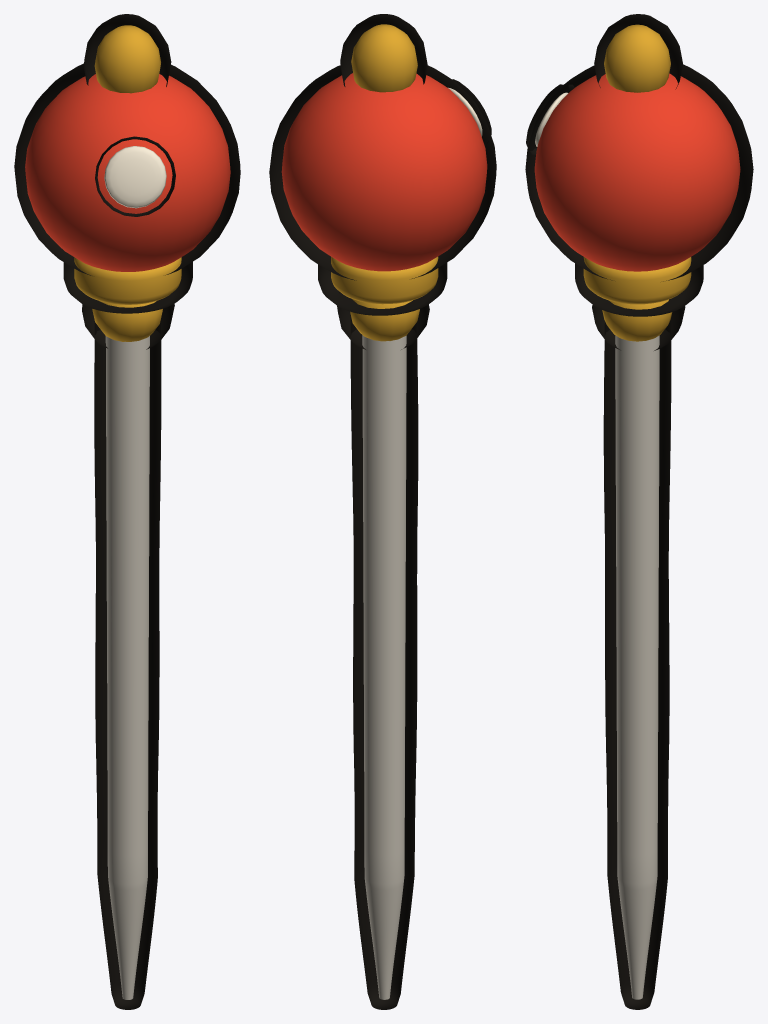
The model's file is hatpin.glb.
3 views of the same model, side by side, from view 1: azimuth 30°, elevation 25°; view 2: azimuth 150°, elevation 25°; view 3: azimuth 270°, elevation 25° (orthographic).
Parts seen in each view (by area): view 1: Hatpin, Hatpin_outline; view 2: Hatpin, Hatpin_outline; view 3: Hatpin, Hatpin_outline.
Boxes of the visible parts, left/top/right/bottom form: Hatpin: left=25, top=25, right=230, bottom=999; Hatpin_outline: left=14, top=14, right=240, bottom=1009; Hatpin: left=281, top=24, right=487, bottom=999; Hatpin_outline: left=269, top=14, right=496, bottom=1009; Hatpin: left=534, top=24, right=740, bottom=999; Hatpin_outline: left=525, top=14, right=753, bottom=1009.
Bounding box in the file's own units: 0.5069 × 2.43 × 0.5093.
